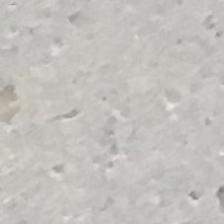Non_Crack: (13, 10, 215, 211)
